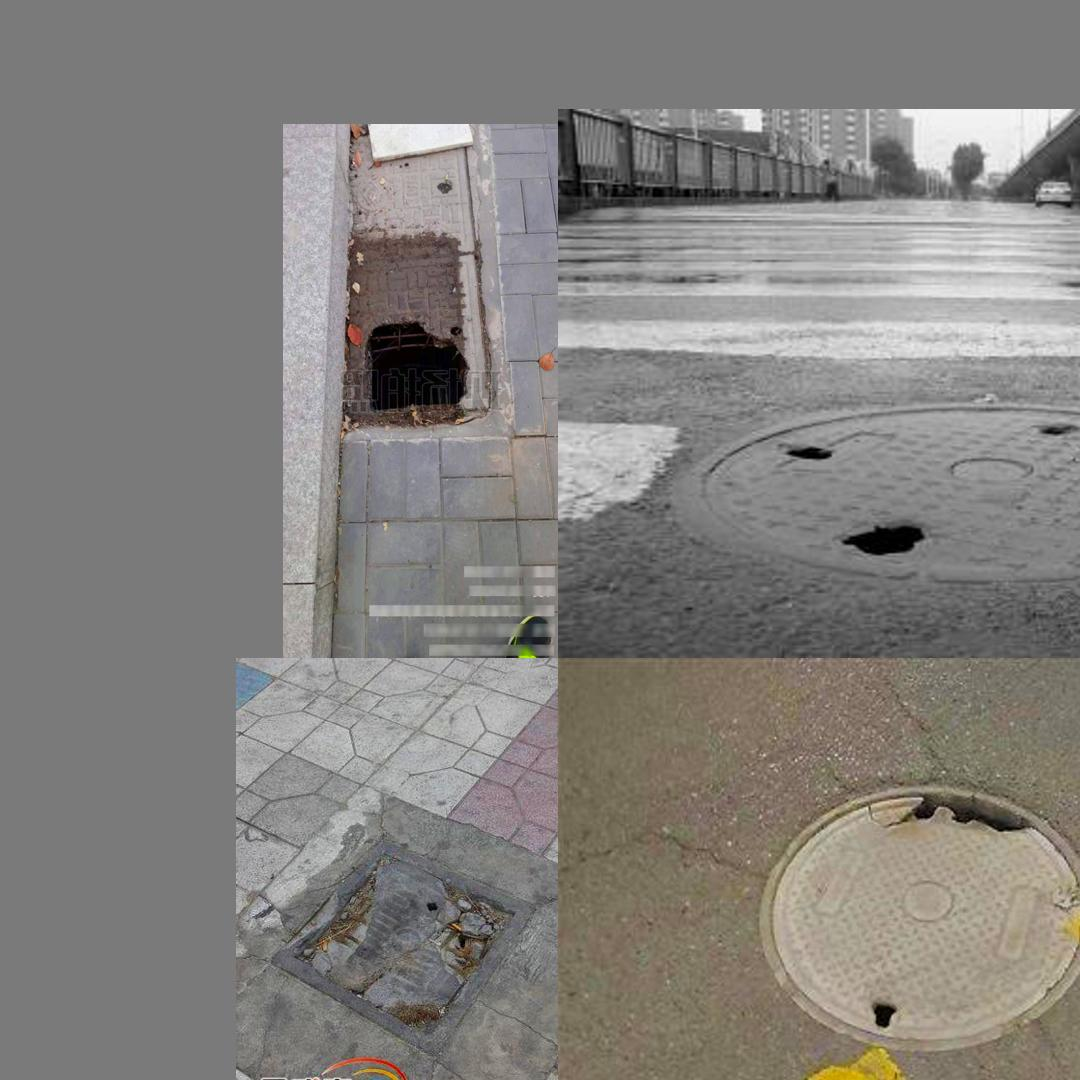broke: (748, 769, 1080, 1061), (622, 419, 1080, 572), (258, 832, 537, 1049), (326, 193, 485, 432)
